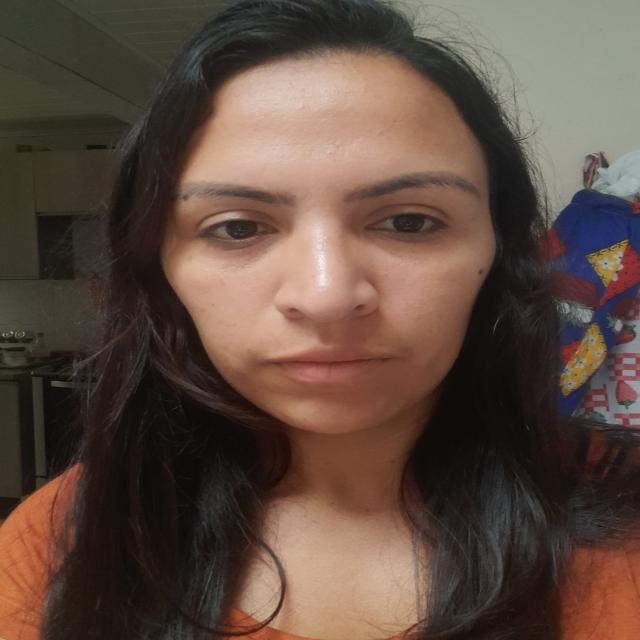eyebrow: (344, 169, 481, 201), (174, 182, 295, 206)
